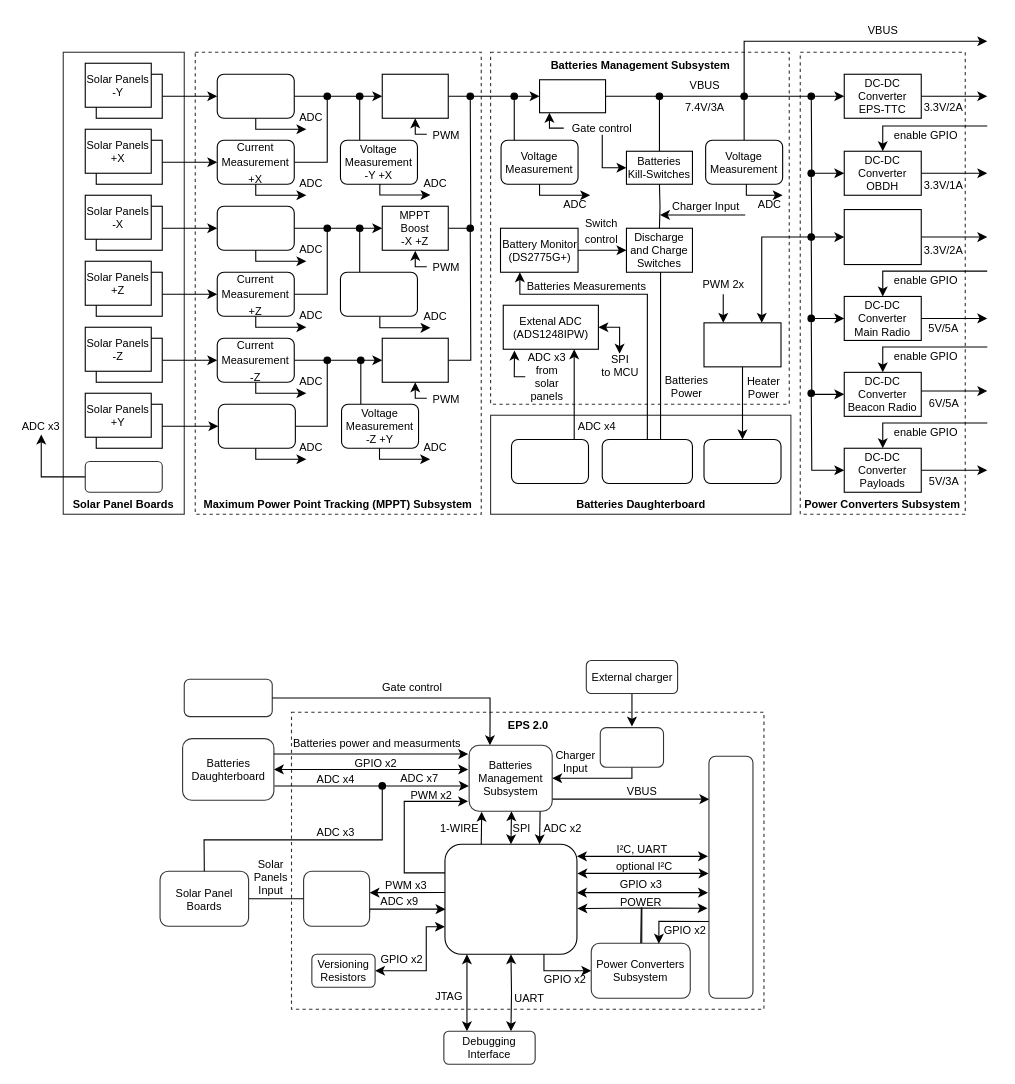
This 1015x1084 diagram has some shape labels left out. Each missing label, with the centre of its shape:
Batteries Charge Connector: (x=631, y=747)
Battery Cells: (x=646, y=460)
Current Measurement +Y: (x=256, y=425)
Current Measurement -X: (x=255, y=227)
Current Measurement -Y: (x=255, y=95)
DC-DC Converter Antenna Deployer: (x=882, y=236)
Heater Actuators: (x=742, y=460)
Heater Drivers: (x=742, y=344)
Kill-Switches and RBF: (x=227, y=697)
Microcontroller: (x=510, y=898)
MPPT Boost -Y +X: (x=414, y=95)
MPPT Boost -Z +Y: (x=414, y=359)
MPPT Subsystem: (x=336, y=898)
PC-104 Bus: (x=730, y=876)
RTDs on Solar Panels: (x=123, y=476)
Solar Panels Kill-Switches: (x=572, y=96)
Temperature Measurement RTDS: (x=549, y=460)
Voltage Measurement -X +Z: (x=378, y=293)
